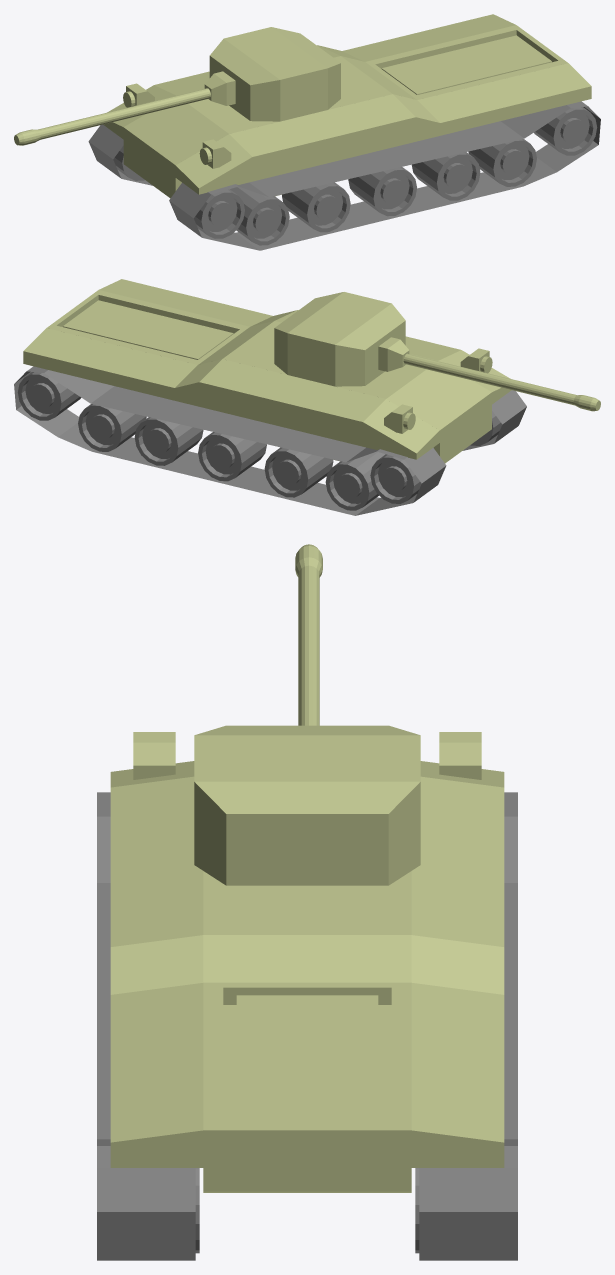
The model's file is tank2.glb.
The picture shows the model from 3 angles, top to bottom: view 1: azimuth 30°, elevation 25°; view 2: azimuth 150°, elevation 25°; view 3: azimuth 270°, elevation 25°; orthographic projection. The views are drawn at different scales.
Visible parts, largest first — view 1: Cube.003, Plane.001, Cube.004, Cube.005; view 2: Cube.003, Plane.001, Cube.004, Cube.005; view 3: Cube.003, Cube.004, Plane.001, Cube.005.
Part boxes in pixels (left/top/right/bottom): Cube.003: left=103, top=14, right=591, bottom=198; Plane.001: left=88, top=101, right=600, bottom=250; Cube.004: left=209, top=27, right=340, bottom=121; Cube.005: left=14, top=71, right=235, bottom=145; Cube.003: left=23, top=279, right=511, bottom=463; Plane.001: left=14, top=366, right=526, bottom=515; Cube.004: left=274, top=292, right=405, bottom=386; Cube.005: left=378, top=337, right=600, bottom=411; Cube.003: left=110, top=732, right=504, bottom=1192; Cube.004: left=194, top=725, right=420, bottom=885; Plane.001: left=97, top=792, right=517, bottom=1260; Cube.005: left=295, top=544, right=322, bottom=725.
Size of the model in its own units: 20.77 by 5.31 by 7.12.
